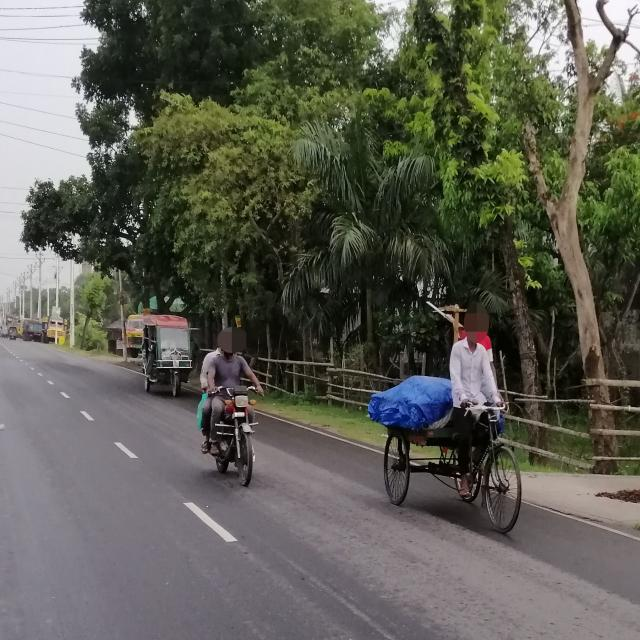Easybike: (138, 313, 197, 405)
Motorbike: (198, 379, 266, 491)
Van: (371, 365, 534, 537)
